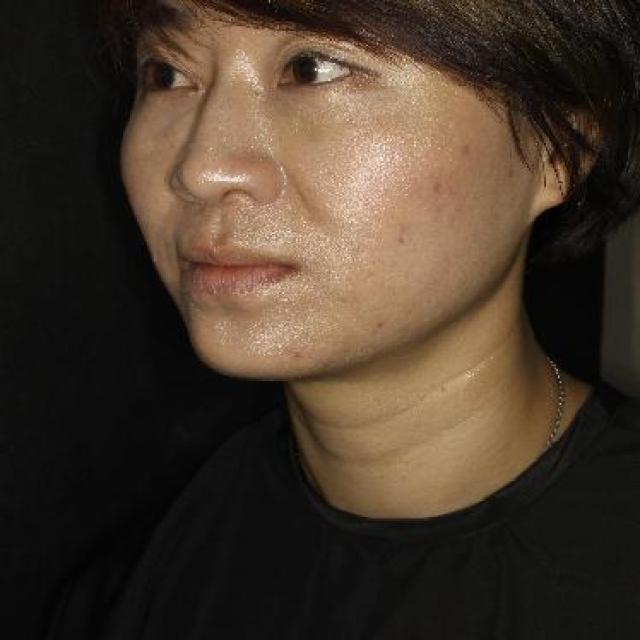Acne: (452, 140, 479, 160), (394, 232, 416, 250), (288, 346, 306, 366)
Blackheads: (372, 317, 388, 334)
